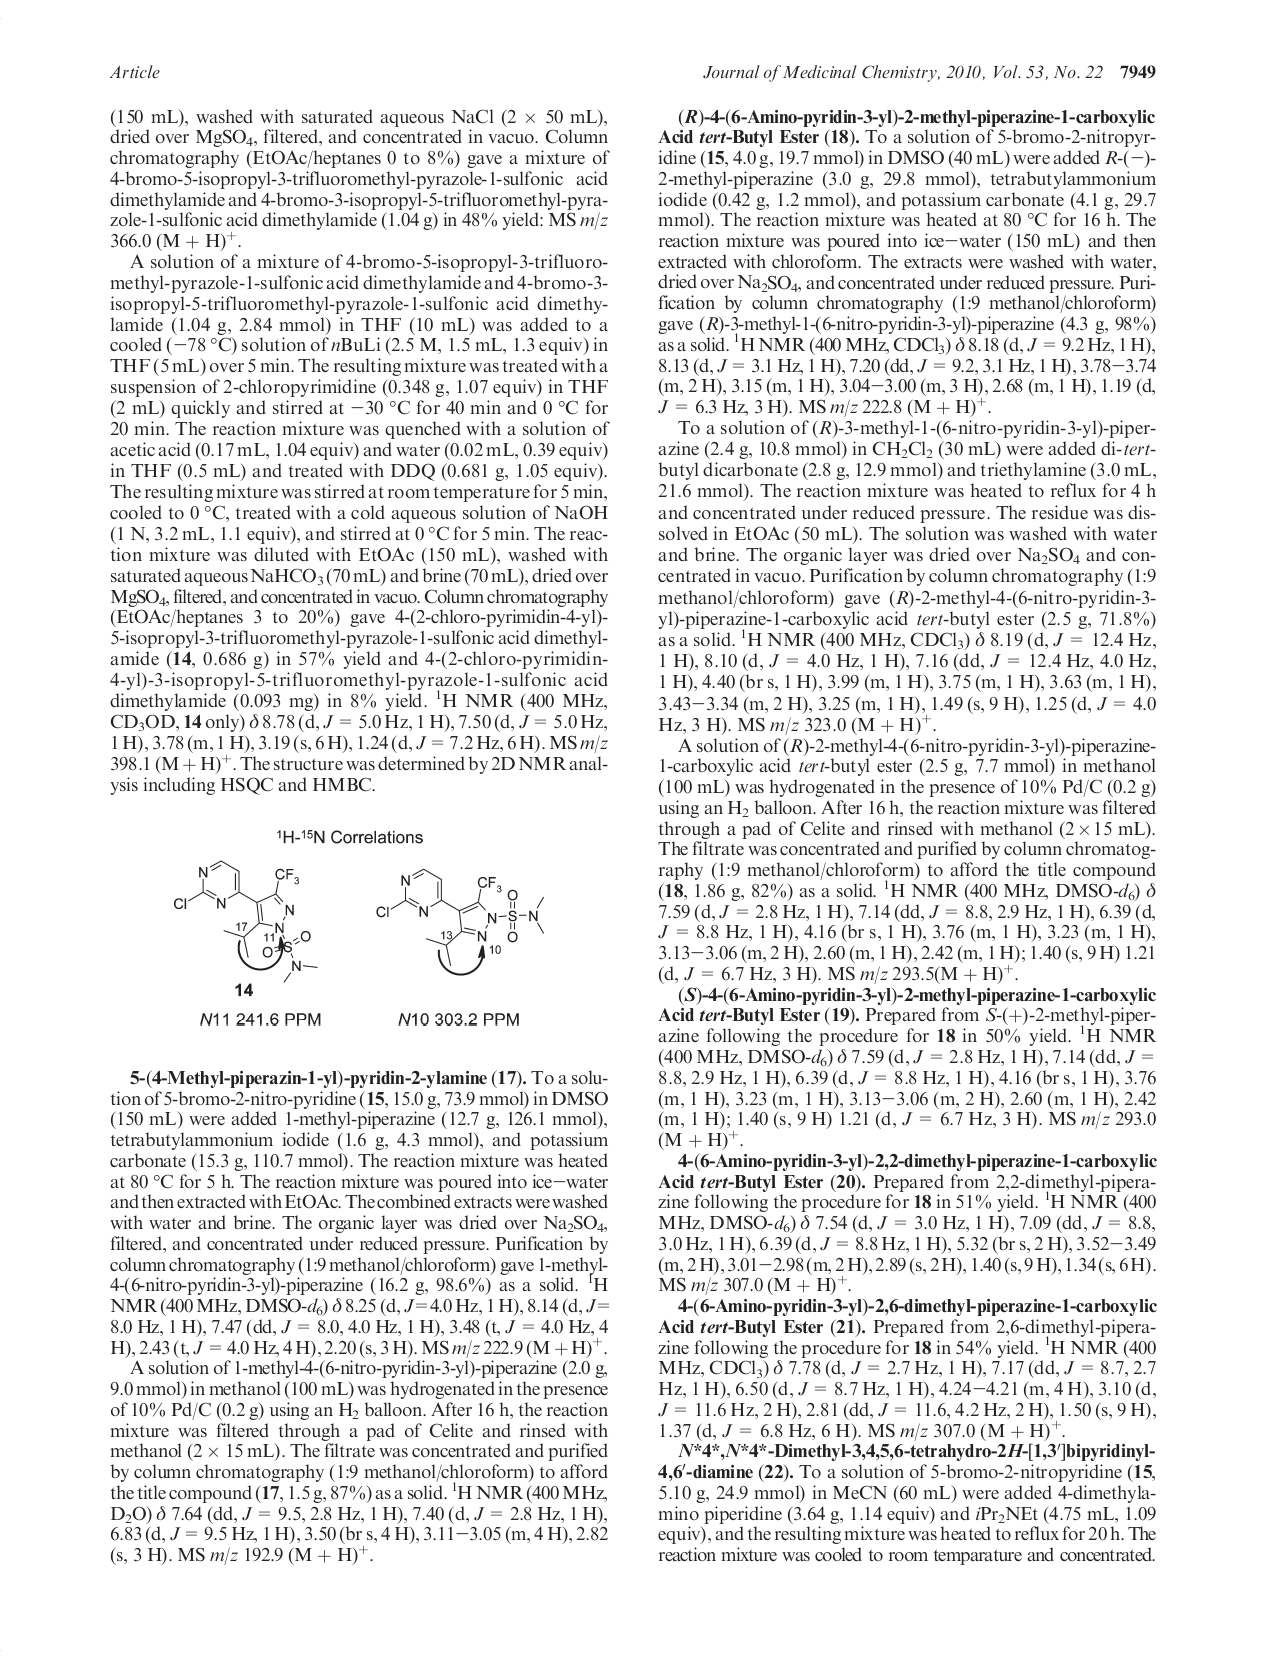exist_molecular: (173, 859, 319, 984), (375, 866, 548, 944)
